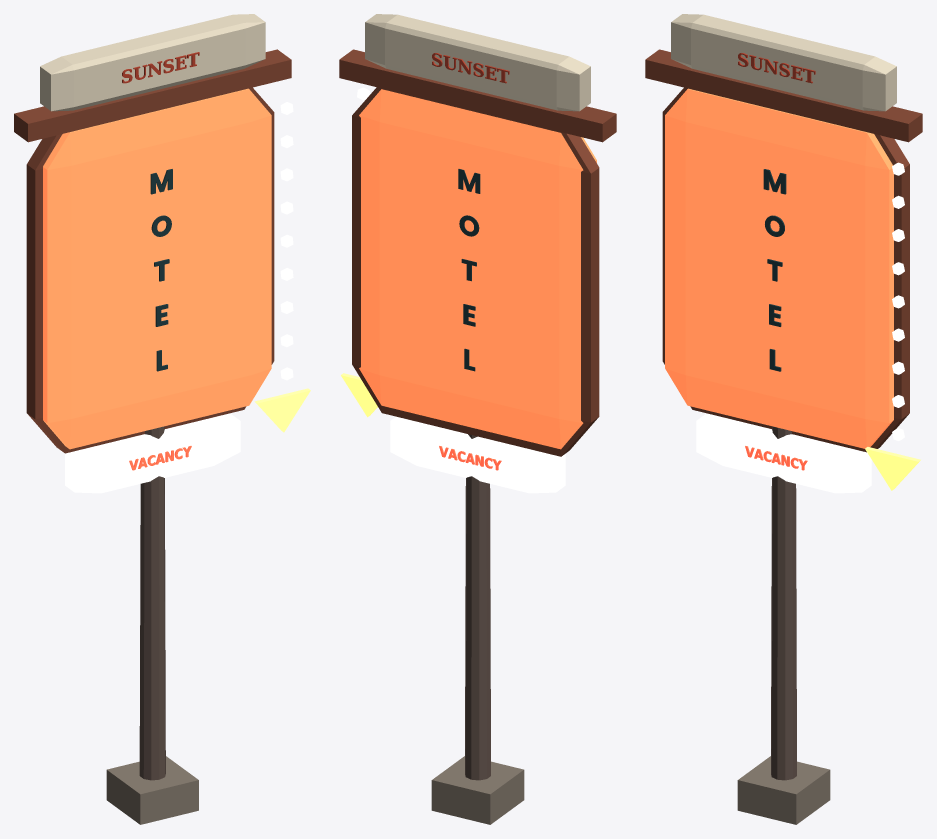
The model's file is motel_sign.glb.
3 views of the same model, side by side, from view 1: azimuth 30°, elevation 25°; view 2: azimuth 150°, elevation 25°; view 3: azimuth 330°, elevation 25° (orthographic).
Parts seen in each view (by area): view 1: motel_sign; view 2: motel_sign; view 3: motel_sign.
Boxes of the visible parts, x1=… form: motel_sign: x1=14, y1=14, x2=310, y2=824; motel_sign: x1=339, y1=14, x2=616, y2=824; motel_sign: x1=645, y1=14, x2=922, y2=824.
Bounding box in the file's own units: 5.7 × 15 × 1.2.
